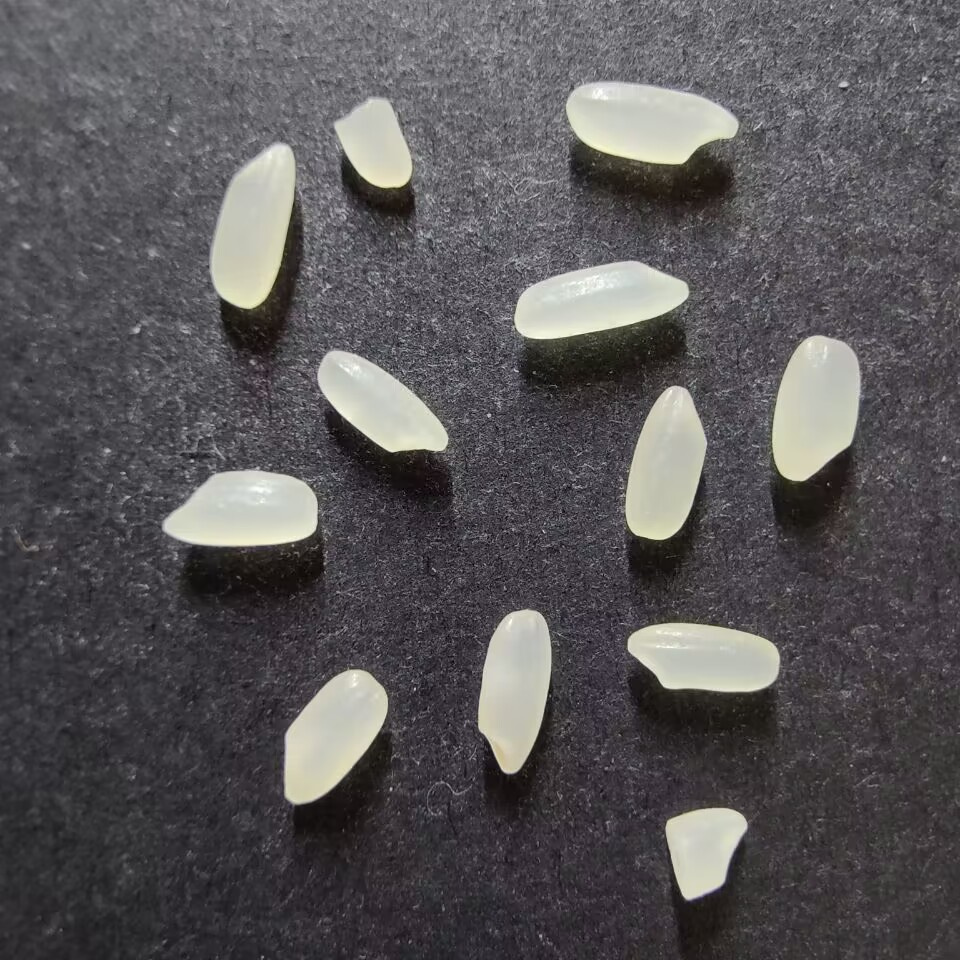broken: (664, 806, 748, 901), (333, 97, 412, 189)
rice: (565, 81, 739, 165), (282, 669, 388, 804), (210, 142, 295, 309), (513, 260, 689, 339), (317, 350, 448, 454), (770, 335, 860, 482), (624, 385, 707, 540), (476, 610, 552, 774), (162, 470, 318, 546), (627, 622, 780, 693)
